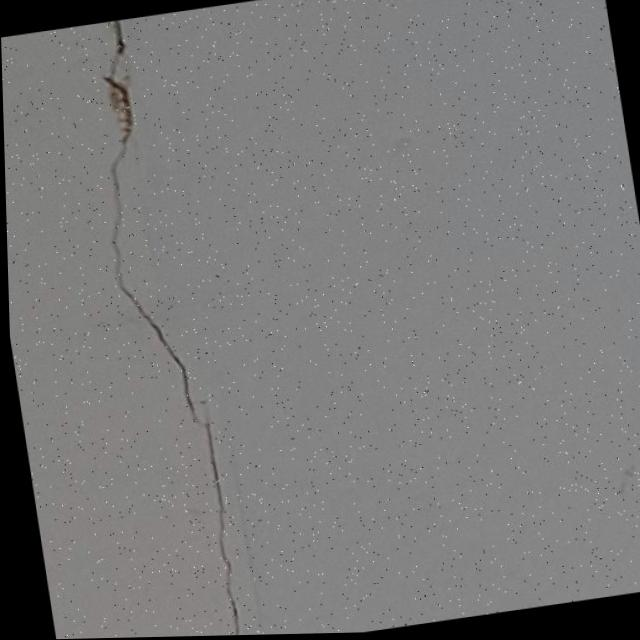Crack: (71, 13, 254, 639)
